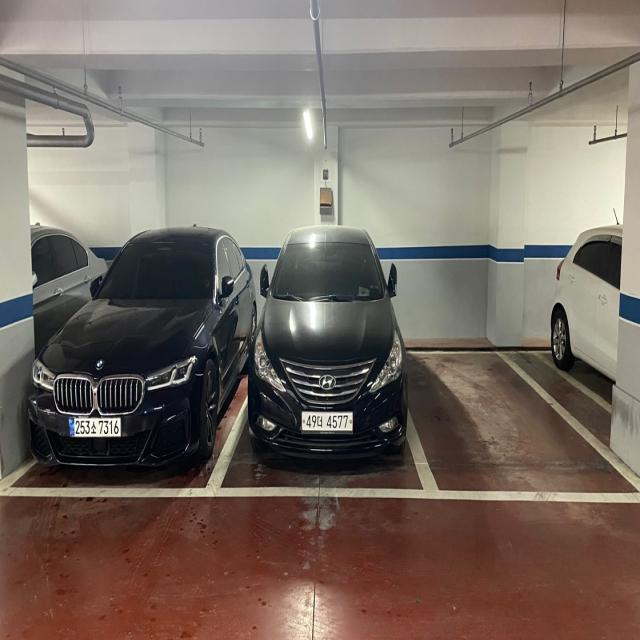empty: (406, 347, 640, 502)
occupied: (31, 222, 242, 472), (246, 228, 406, 464)
